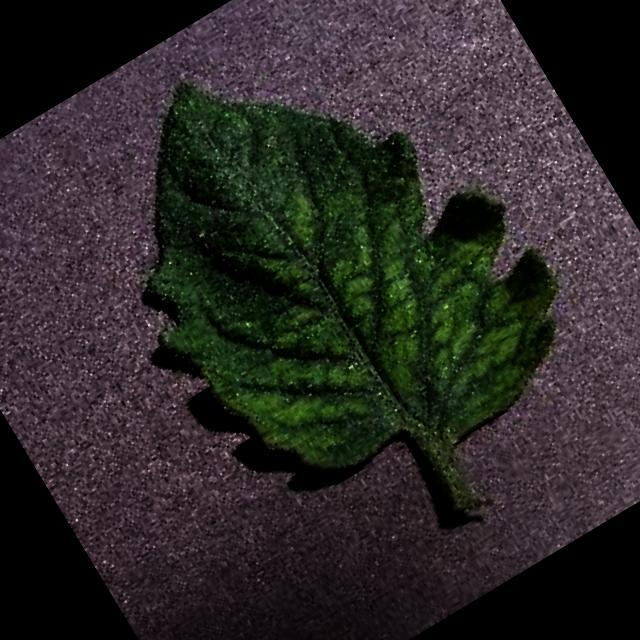Tomato mosaic virus leaf: (43, 0, 609, 552)
